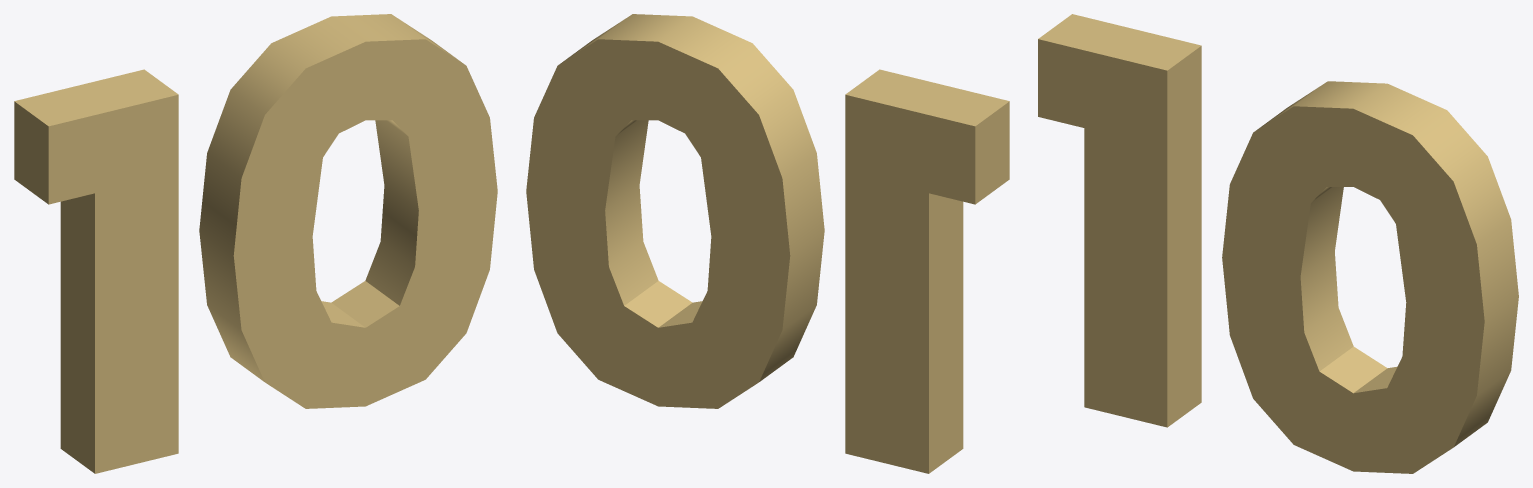
The model's file is kr_num_10.glb.
3 renders of one model, left to right at view 1: azimuth 30°, elevation 25°; view 2: azimuth 150°, elevation 25°; view 3: azimuth 330°, elevation 25°, orthographic.
Parts seen in each view (by area): view 1: vc_m8_r2; view 2: vc_m8_r2; view 3: vc_m8_r2.
Part boxes in pixels (box(x1,y1,x2,y2)): vc_m8_r2: box(14, 14, 497, 473); vc_m8_r2: box(526, 14, 1009, 473); vc_m8_r2: box(1038, 14, 1518, 473).
Bounding box in the file's own units: 0.4514 × 0.3518 × 0.06.
